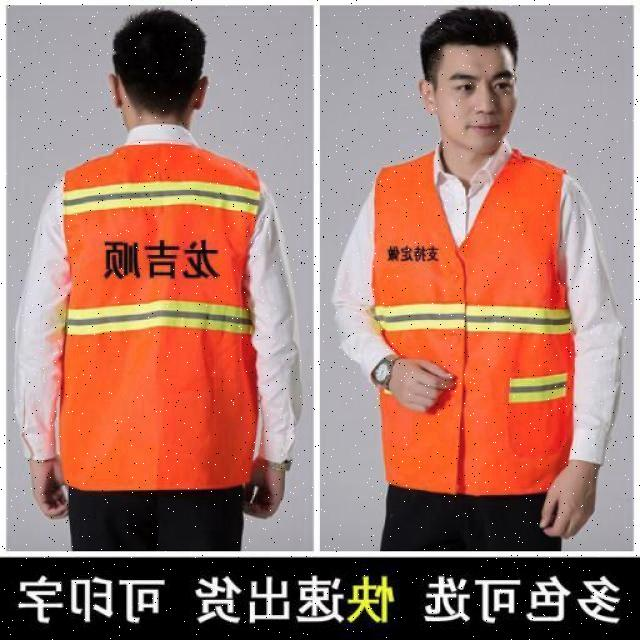Person: (334, 16, 606, 561)
Vest: (372, 153, 575, 487), (65, 133, 255, 485)
